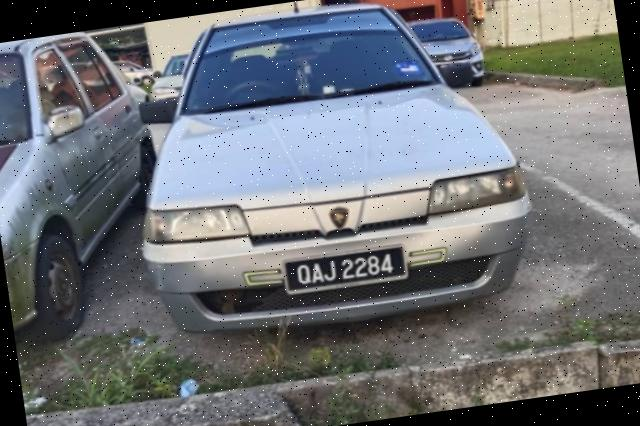License_Plate: (284, 246, 411, 298)
car: (110, 1, 546, 358)
